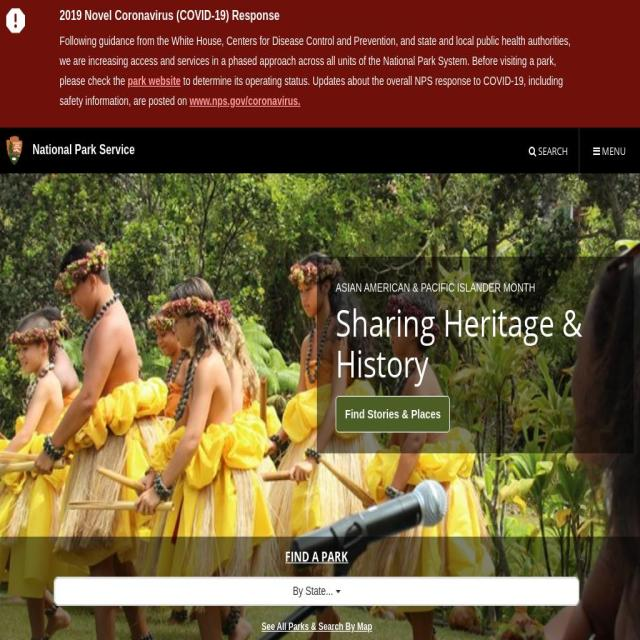button: (54, 577, 580, 605), (0, 127, 144, 173), (336, 396, 450, 432), (579, 128, 640, 174), (518, 128, 578, 174)
heading: (336, 302, 615, 383), (59, 8, 580, 22), (602, 142, 626, 158)
image: (6, 8, 25, 34)
link: (190, 94, 300, 108), (285, 547, 349, 566), (262, 621, 372, 632), (128, 74, 182, 88)
text: (59, 34, 572, 88), (59, 74, 563, 108), (25, 136, 135, 162), (336, 281, 535, 294), (292, 584, 336, 598), (6, 136, 25, 165), (536, 142, 568, 158)
